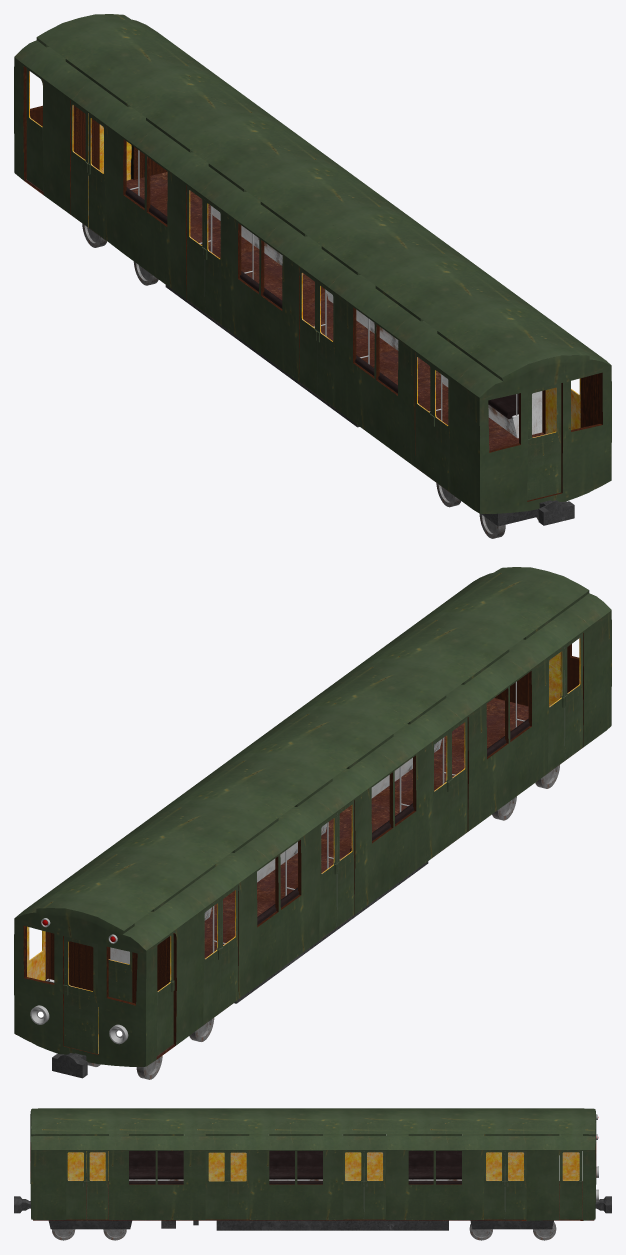
The model's file is MetrowagonAnka.gltf.
3 renders of one model, top to bottom at view 1: azimuth 30°, elevation 25°; view 2: azimuth 150°, elevation 25°; view 3: azimuth 270°, elevation 25°, orthographic. The views are drawn at different scales.
Parts seen in each view (by area): view 1: MetrowagonA_wagon, Cube.001, Door.016, Door.012, Door.013, Door.014, Door.011, Door.008, Cube, Door.015, Door.009, Door.010 (+3 smaller); view 2: MetrowagonA_wagon, Cube.001, Door.017, Cube, Door.009, Door.013, Door.014, Door.010, Door.011, Door.012, Door.008, Door.015 (+3 smaller); view 3: MetrowagonA_wagon, Bogey.003, Seat.004, Seat.005, Seat.002, Door.019, Door, Door.001, Door.002, Door.005, Door.006, Door.003 (+23 smaller).
Part boxes in pixels (bbox=[...]): MetrowagonA_wagon: bbox=[14, 14, 611, 513]; Cube.001: bbox=[25, 172, 544, 450]; Door.016: bbox=[527, 383, 561, 500]; Door.012: bbox=[299, 268, 317, 394]; Door.013: bbox=[316, 281, 335, 408]; Door.014: bbox=[431, 365, 450, 492]; Door.011: bbox=[187, 186, 204, 312]; Door.008: bbox=[71, 101, 88, 227]; Cube: bbox=[73, 105, 167, 179]; Door.015: bbox=[415, 353, 432, 479]; Door.009: bbox=[87, 113, 106, 240]; Door.010: bbox=[204, 199, 221, 325]; MetrowagonA_wagon: bbox=[14, 567, 611, 1066]; Cube.001: bbox=[15, 698, 528, 1057]; Door.017: bbox=[63, 936, 98, 1054]; Cube: bbox=[50, 933, 169, 1003]; Door.009: bbox=[220, 885, 238, 1012]; Door.013: bbox=[449, 718, 467, 844]; Door.014: bbox=[565, 633, 582, 760]; Door.010: bbox=[337, 801, 354, 927]; Door.011: bbox=[319, 813, 337, 940]; Door.012: bbox=[432, 731, 450, 857]; Door.008: bbox=[203, 899, 221, 1025]; Door.015: bbox=[548, 646, 565, 772]; MetrowagonA_wagon: bbox=[30, 1108, 596, 1220]; Bogey.003: bbox=[216, 1220, 448, 1230]; Seat.004: bbox=[129, 1151, 183, 1179]; Seat.005: bbox=[269, 1151, 322, 1179]; Seat.002: bbox=[408, 1151, 461, 1179]; Door.019: bbox=[559, 1151, 582, 1219]; Door: bbox=[205, 1151, 227, 1219]; Door.001: bbox=[227, 1151, 249, 1219]; Door.002: bbox=[87, 1151, 108, 1219]; Door.005: bbox=[364, 1151, 385, 1219]; Door.006: bbox=[505, 1151, 526, 1219]; Door.003: bbox=[66, 1151, 86, 1219].
Bounding box in the file's own units: 3.88 × 5.29 × 24.71.
47 materials, 14 textured.
